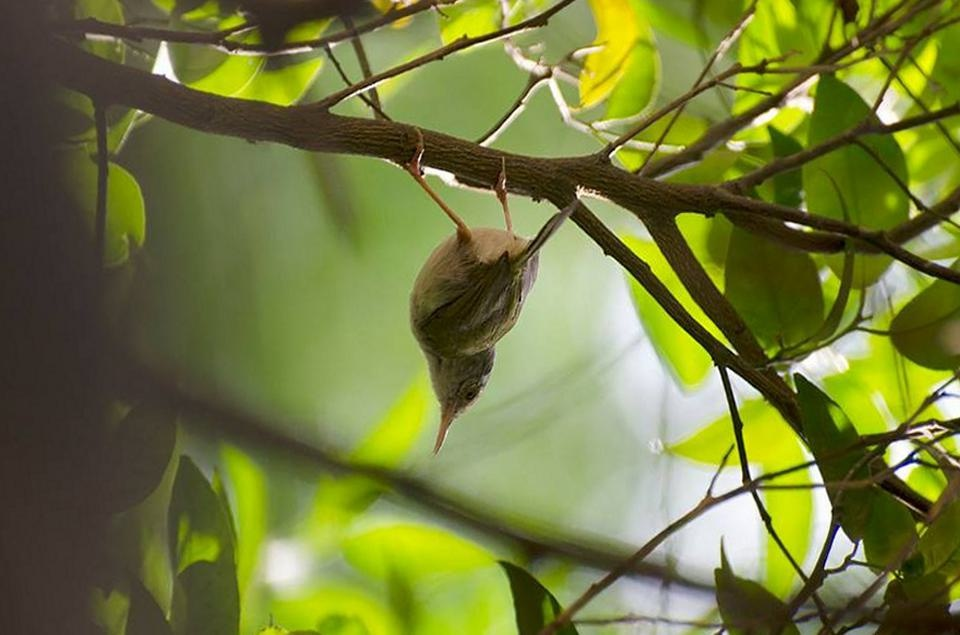tailorbird: (399, 164, 581, 467)
